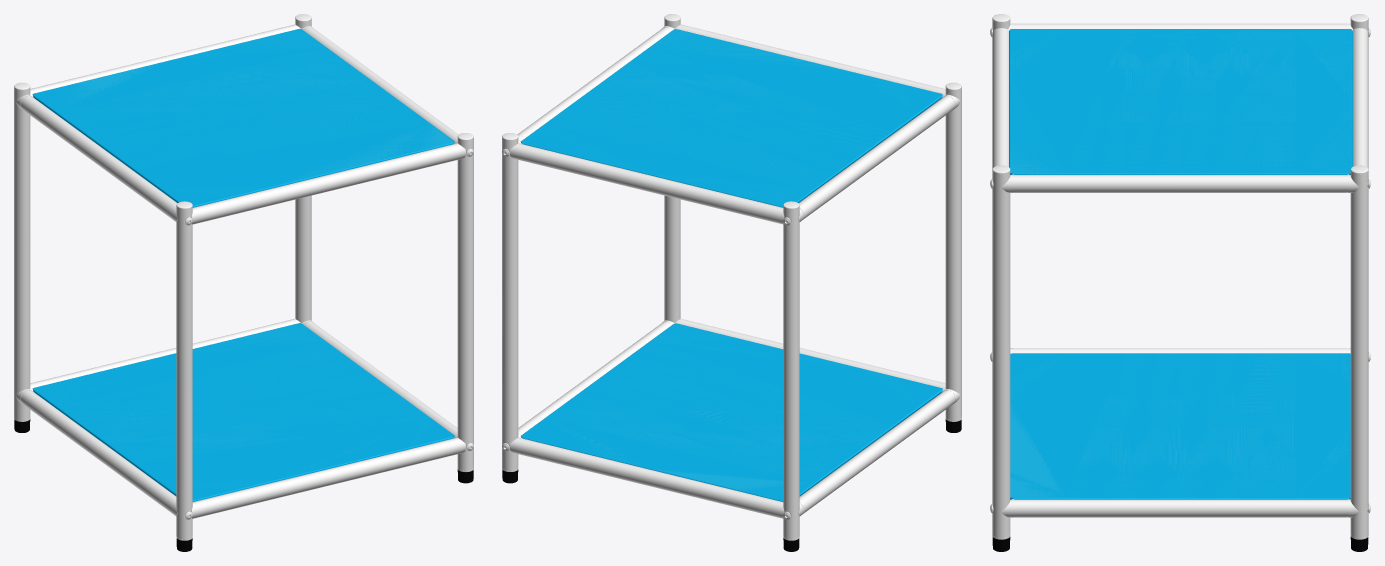
File: 40x40x40-2-1-blue.glb
3 renders of one model, left to right at view 1: azimuth 30°, elevation 25°; view 2: azimuth 150°, elevation 25°; view 3: azimuth 270°, elevation 25°, orthographic. The views are drawn at different scales.
Parts seen in each view (by area): view 1: 直角鐵板-40x40-5 - 零件, 直角鐵板-40x40-3 - 零件, 鐵管-1層-40-正常腳-32mm-5 - 零件, 鐵管-1層-40-正常腳-32mm-4 - 零件, 鏡射鐵管-1層-40-正常腳-32mm-2 - 零件, 消水孔鐵管-40深-2 - 零件, 消水孔鐵管-40深-1 - 零件, 反-鐵管-40-354..4-15 - 零件, 反-鐵管-40-354..4-18 - 零件, 鏡射鐵管-1層-40-正常腳-32mm-1 - 零件, 鏡射消水孔鐵管-40深-2 - 零件, 反-鐵管-40-354..4-17 - 零件 (+2 smaller); view 2: 直角鐵板-40x40-5 - 零件, 直角鐵板-40x40-3 - 零件, 鏡射鐵管-1層-40-正常腳-32mm-2 - 零件, 鏡射鐵管-1層-40-正常腳-32mm-1 - 零件, 鐵管-1層-40-正常腳-32mm-5 - 零件, 鏡射消水孔鐵管-40深-2 - 零件, 鏡射消水孔鐵管-40深-1 - 零件, 反-鐵管-40-354..4-15 - 零件, 反-鐵管-40-354..4-18 - 零件, 鐵管-1層-40-正常腳-32mm-4 - 零件, 消水孔鐵管-40深-2 - 零件, 消水孔鐵管-40深-1 - 零件 (+2 smaller); view 3: 直角鐵板-40x40-5 - 零件, 直角鐵板-40x40-3 - 零件, 鐵管-1層-40-正常腳-32mm-4 - 零件, 鏡射鐵管-1層-40-正常腳-32mm-1 - 零件, 反-鐵管-40-354..4-1 - 零件, 反-鐵管-40-354..4-17 - 零件, 消水孔鐵管-40深-2 - 零件, 鏡射消水孔鐵管-40深-2 - 零件, 反-鐵管-40-354..4-15 - 零件, 反-鐵管-40-354..4-18 - 零件.
Boxes of the visible parts, <box> form: 直角鐵板-40x40-5 - 零件: <box>32,29,454,207</box>; 直角鐵板-40x40-3 - 零件: <box>32,323,454,501</box>; 鐵管-1層-40-正常腳-32mm-5 - 零件: <box>176,206,192,539</box>; 鐵管-1層-40-正常腳-32mm-4 - 零件: <box>457,138,473,470</box>; 鏡射鐵管-1層-40-正常腳-32mm-2 - 零件: <box>14,87,30,420</box>; 消水孔鐵管-40深-2 - 零件: <box>191,143,465,224</box>; 消水孔鐵管-40深-1 - 零件: <box>191,437,465,518</box>; 反-鐵管-40-354..4-15 - 零件: <box>21,390,176,514</box>; 反-鐵管-40-354..4-18 - 零件: <box>20,96,177,219</box>; 鏡射鐵管-1層-40-正常腳-32mm-1 - 零件: <box>295,19,311,322</box>; 鏡射消水孔鐵管-40深-2 - 零件: <box>30,24,300,97</box>; 反-鐵管-40-354..4-17 - 零件: <box>304,27,458,144</box>; 直角鐵板-40x40-5 - 零件: <box>521,29,942,207</box>; 直角鐵板-40x40-3 - 零件: <box>521,323,942,501</box>; 鏡射鐵管-1層-40-正常腳-32mm-2 - 零件: <box>783,207,799,539</box>; 鏡射鐵管-1層-40-正常腳-32mm-1 - 零件: <box>502,138,518,470</box>; 鐵管-1層-40-正常腳-32mm-5 - 零件: <box>945,88,961,420</box>; 鏡射消水孔鐵管-40深-2 - 零件: <box>510,143,784,224</box>; 鏡射消水孔鐵管-40深-1 - 零件: <box>510,437,784,518</box>; 反-鐵管-40-354..4-15 - 零件: <box>799,390,955,514</box>; 反-鐵管-40-354..4-18 - 零件: <box>798,96,955,219</box>; 鐵管-1層-40-正常腳-32mm-4 - 零件: <box>664,19,680,322</box>; 消水孔鐵管-40深-2 - 零件: <box>675,24,945,98</box>; 消水孔鐵管-40深-1 - 零件: <box>675,318,945,391</box>; 直角鐵板-40x40-5 - 零件: <box>1009,29,1352,174</box>; 直角鐵板-40x40-3 - 零件: <box>1010,353,1350,499</box>; 鐵管-1層-40-正常腳-32mm-4 - 零件: <box>992,171,1010,537</box>; 鏡射鐵管-1層-40-正常腳-32mm-1 - 零件: <box>1350,171,1368,537</box>; 反-鐵管-40-354..4-1 - 零件: <box>1013,499,1347,517</box>; 反-鐵管-40-354..4-17 - 零件: <box>1013,175,1347,192</box>; 消水孔鐵管-40深-2 - 零件: <box>992,28,1008,168</box>; 鏡射消水孔鐵管-40深-2 - 零件: <box>1352,28,1368,168</box>; 反-鐵管-40-354..4-15 - 零件: <box>1013,348,1347,353</box>; 反-鐵管-40-354..4-18 - 零件: <box>1013,23,1347,28</box>.
Bounding box in the file's own units: 0.3992 × 0.4454 × 0.4036.
